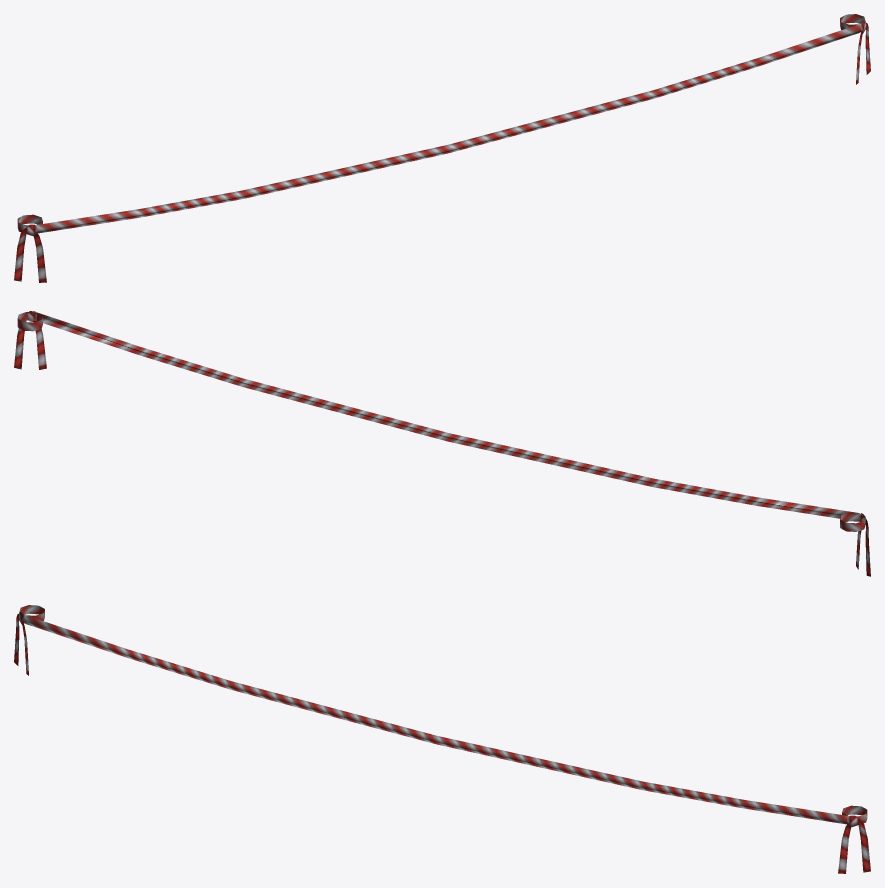
Rendered from jsf_4P_String_s01_01.fbx.
3 renders of one model, top to bottom at view 1: azimuth 30°, elevation 25°; view 2: azimuth 150°, elevation 25°; view 3: azimuth 330°, elevation 25°, orthographic.
Visible parts, largest first — view 1: jsf_4P_String_s01_01; view 2: jsf_4P_String_s01_01; view 3: jsf_4P_String_s01_01.
Boxes of the visible parts, bbox=[...] form: jsf_4P_String_s01_01: bbox=[14, 14, 870, 282]; jsf_4P_String_s01_01: bbox=[14, 311, 870, 576]; jsf_4P_String_s01_01: bbox=[14, 605, 870, 873].
Bounding box in the file's own units: 151 × 9.85 × 5.
